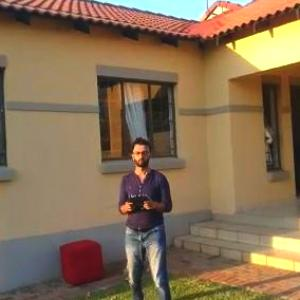follow: (114, 132, 179, 299)
